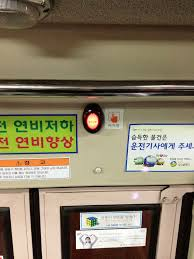bell: (80, 103, 106, 135)
